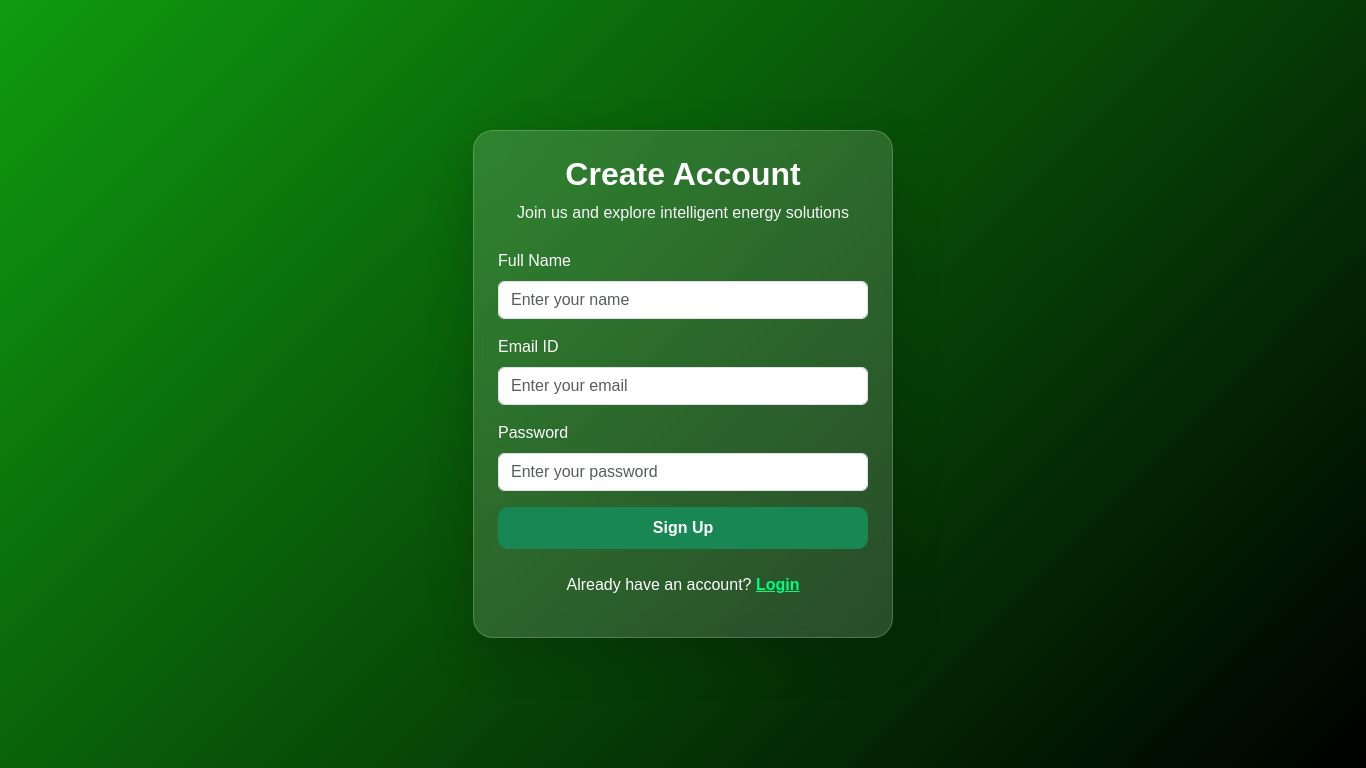
Test: Signup Component › shows error if email already exists
Type "New User" into the field with placeholder "Enter your name" at [683, 300], box [498,281,868,319]
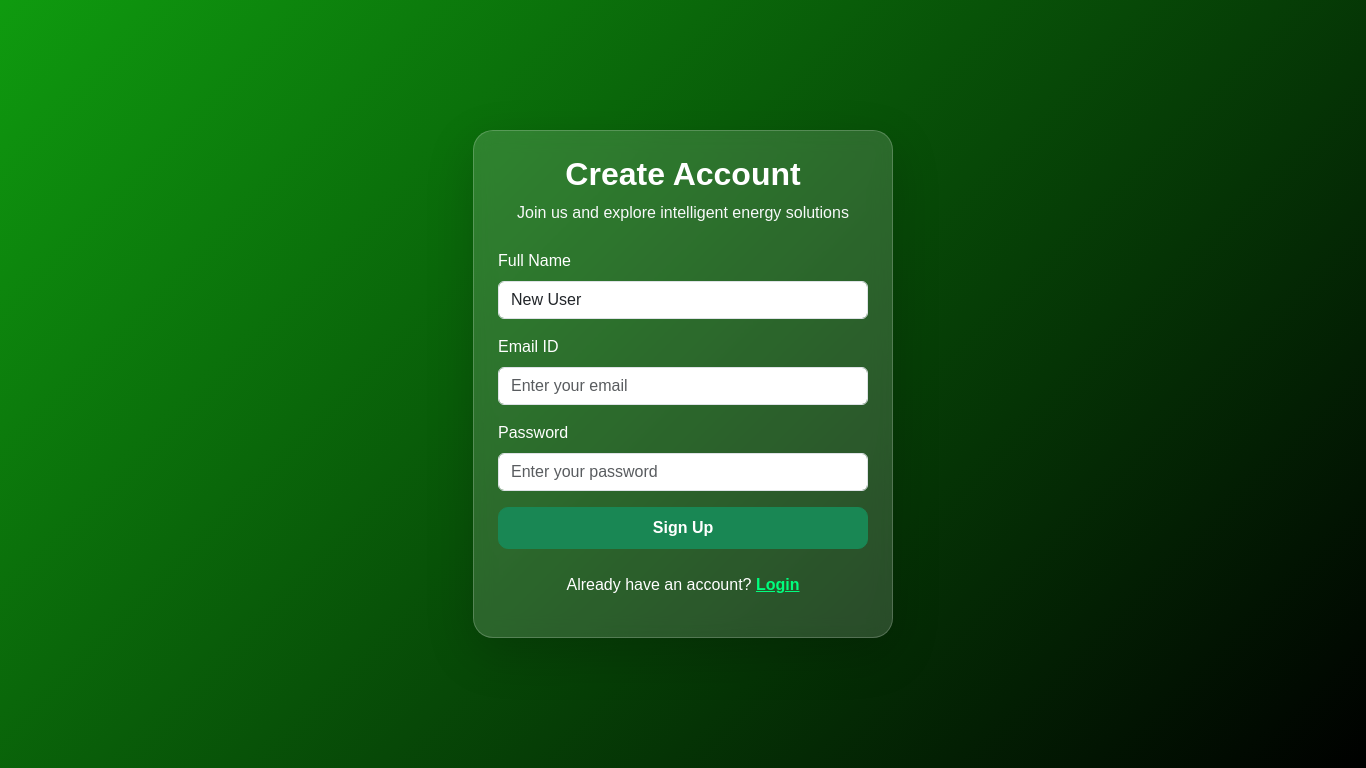
Type "test@example.com" into the field with placeholder "Enter your email" at [683, 386], box [498,367,868,405]
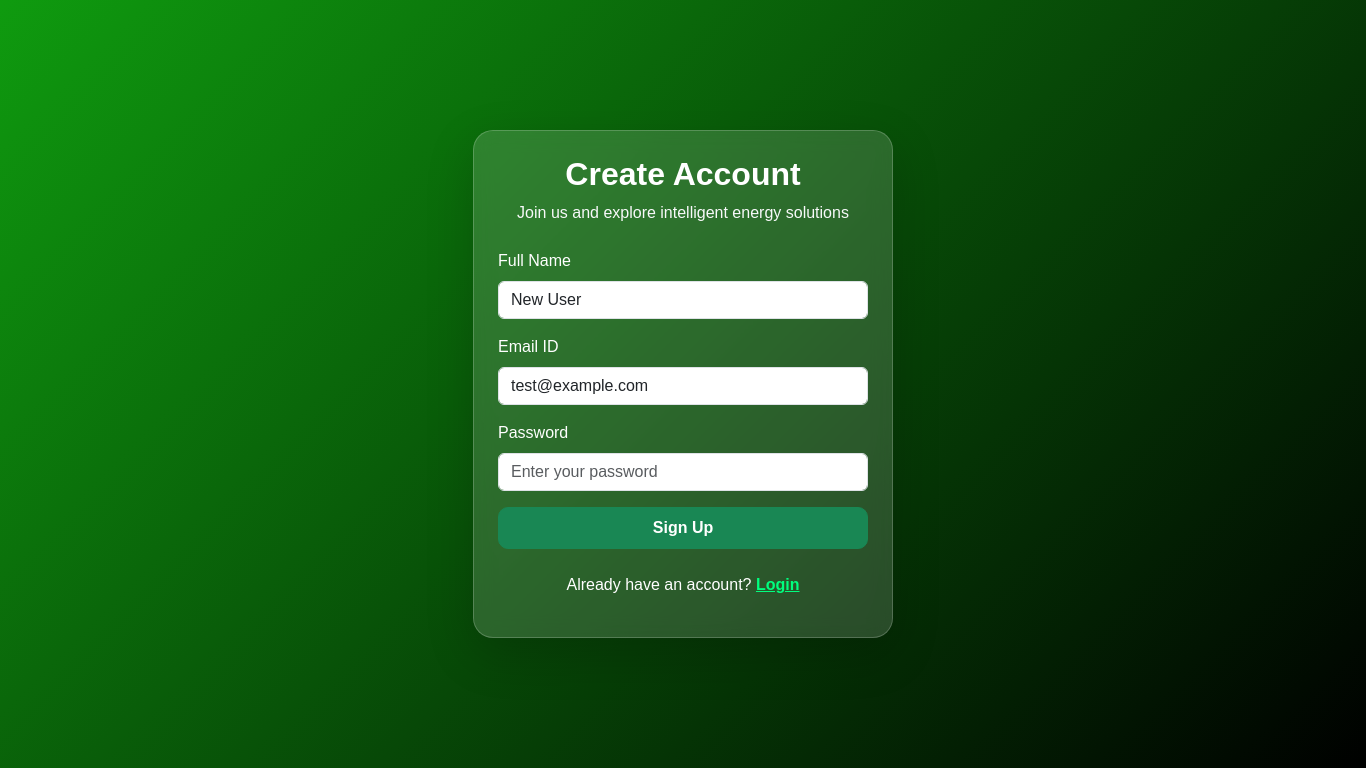
Type "test-password" into the password field with placeholder "Enter your password" at [683, 472], box [498,453,868,491]
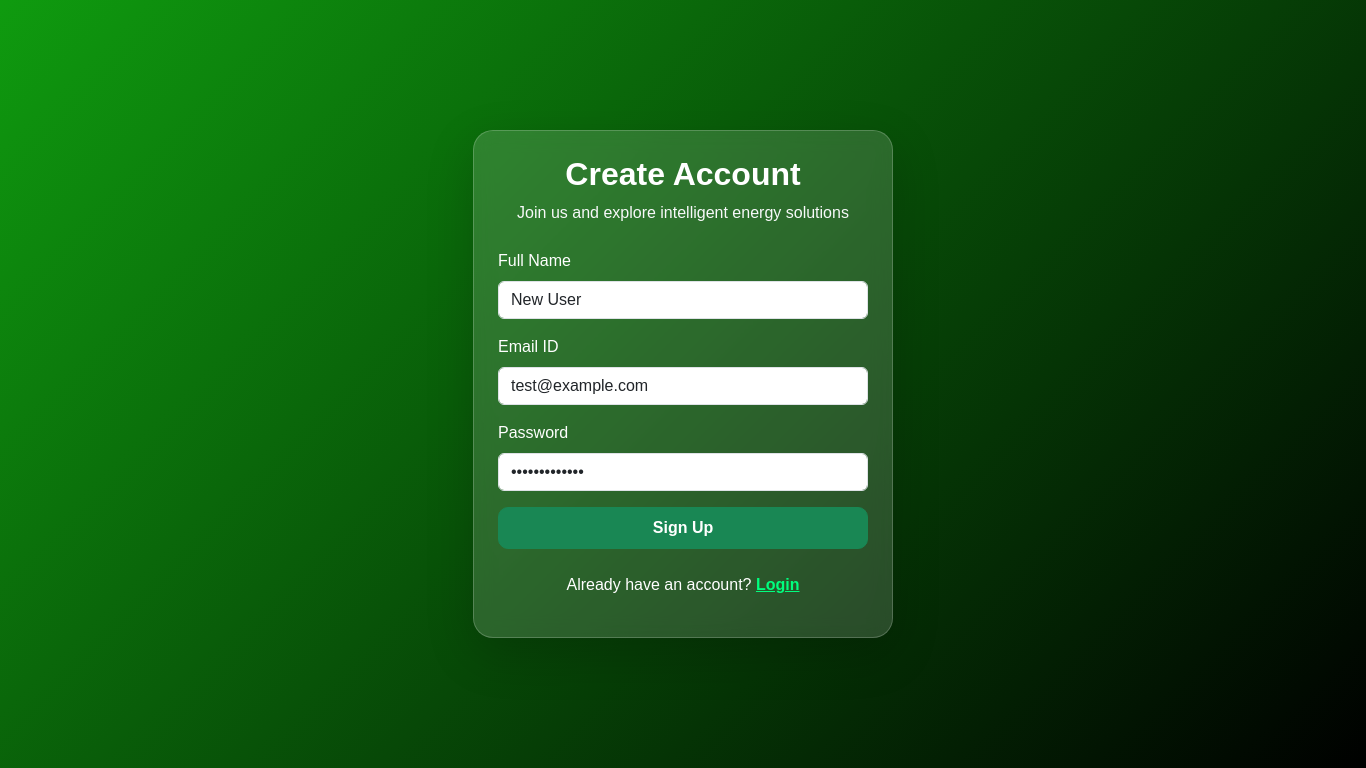
Click the button "Sign Up" at [683, 528], box [498,507,868,549]
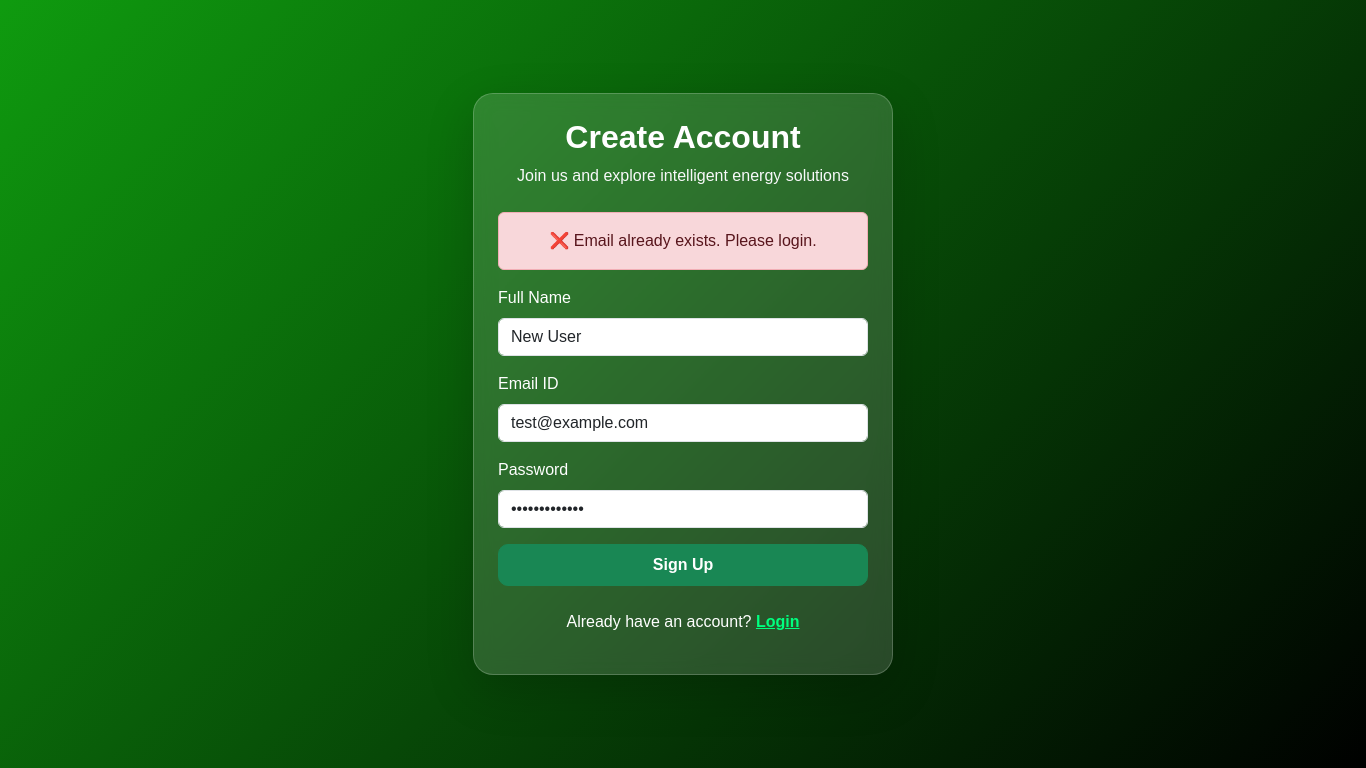
Check: the text "❌ Email already exists. Please login." is shown, box [498,212,868,270]
